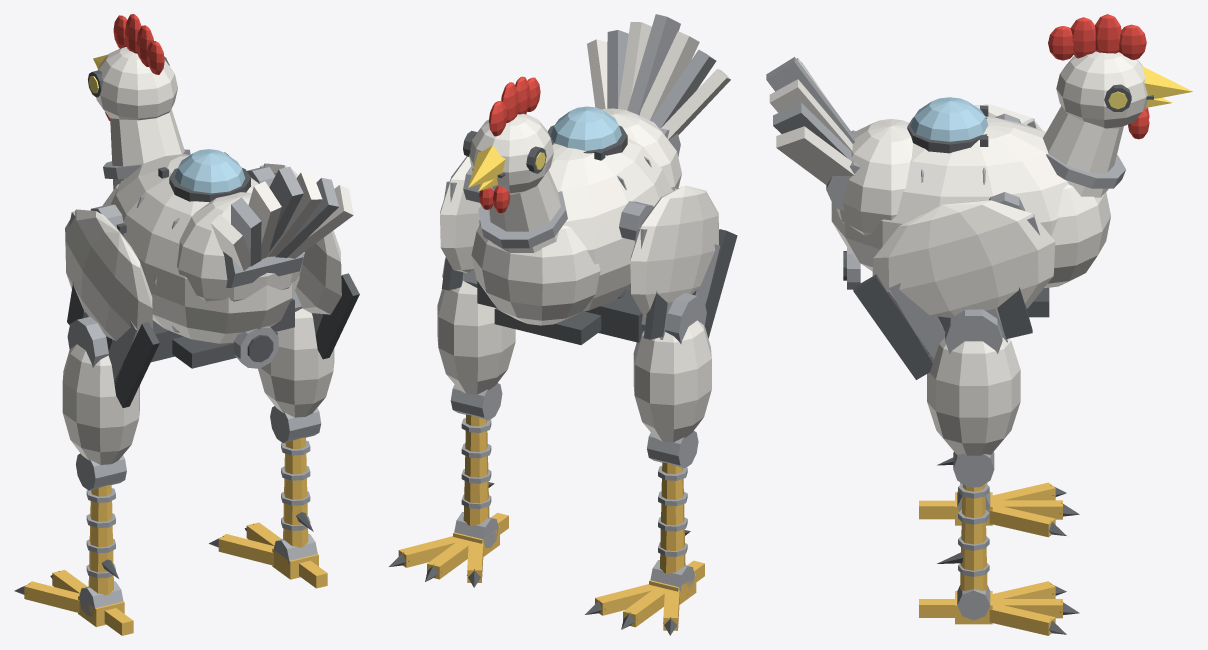
The model's file is hen.glb.
The picture shows the model from 3 angles, left to right: view 1: azimuth 30°, elevation 25°; view 2: azimuth 150°, elevation 25°; view 3: azimuth 270°, elevation 25°; orthographic projection. The views are drawn at different scales.
Visible parts, largest first — view 1: body, wing_L, tail, head, hip_L, wing_R, hip_R, knee_L, knee_R, ankle_L, ankle_R, pelvis; view 2: body, head, wing_L, tail, hip_L, hip_R, knee_R, knee_L, ankle_L, ankle_R, wing_R, pelvis; view 3: body, wing_R, head, hip_R, tail, ankle_R, ankle_L, knee_R.
Boxes of the visible parts, bbox=[...] form: body: bbox=[102, 149, 304, 368]; wing_L: bbox=[65, 204, 159, 407]; tail: bbox=[211, 166, 353, 287]; head: bbox=[88, 14, 190, 189]; hip_L: bbox=[62, 316, 139, 464]; wing_R: bbox=[247, 163, 359, 359]; hip_R: bbox=[258, 291, 334, 417]; knee_L: bbox=[76, 453, 126, 595]; knee_R: bbox=[270, 406, 321, 547]; ankle_L: bbox=[14, 570, 133, 635]; ankle_R: bbox=[209, 522, 327, 588]; pelvis: bbox=[151, 298, 294, 362]; body: bbox=[471, 106, 681, 344]; head: bbox=[463, 76, 567, 252]; wing_L: bbox=[619, 185, 737, 339]; tail: bbox=[587, 14, 730, 156]; hip_L: bbox=[633, 293, 711, 442]; hip_R: bbox=[437, 258, 515, 394]; knee_R: bbox=[450, 383, 502, 525]; knee_L: bbox=[647, 431, 698, 573]; ankle_L: bbox=[585, 560, 704, 635]; ankle_R: bbox=[389, 512, 508, 587]; wing_R: bbox=[440, 156, 481, 290]; pelvis: bbox=[477, 281, 642, 342]; body: bbox=[831, 97, 1110, 317]; wing_R: bbox=[853, 192, 1055, 379]; head: bbox=[1043, 14, 1192, 197]; hip_R: bbox=[927, 309, 1020, 455]; tail: bbox=[766, 57, 860, 211]; ankle_R: bbox=[919, 581, 1079, 635]; ankle_L: bbox=[919, 482, 1079, 537]; knee_R: bbox=[937, 451, 994, 590].
Size of the model in its own units: 4.89 by 8.9 by 6.22.
